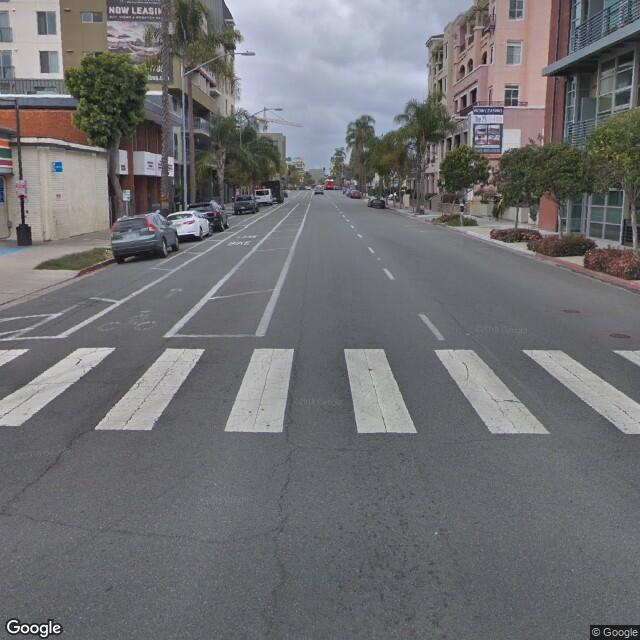road line: (200, 222, 275, 301), (367, 240, 400, 286)
window: (600, 61, 632, 117), (505, 40, 527, 68), (503, 82, 522, 107)
